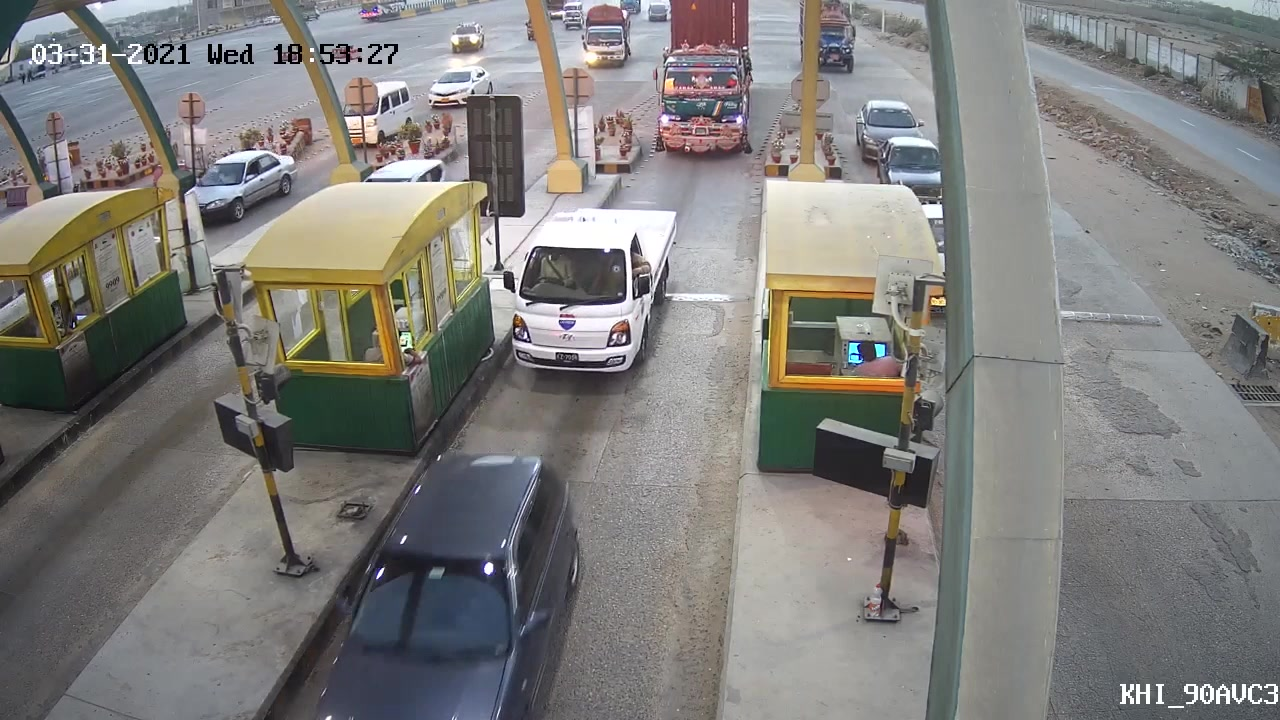F1: (493, 200, 684, 390)
